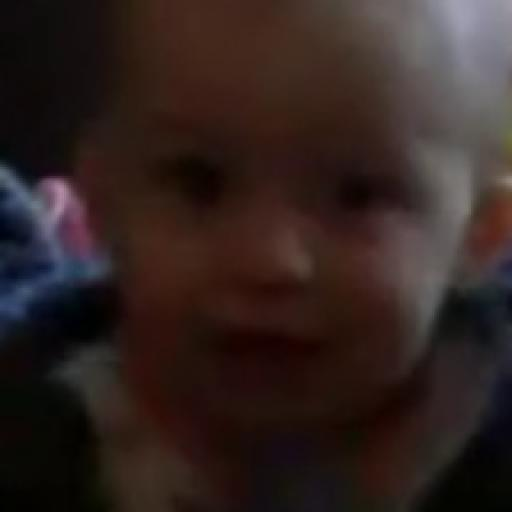Autism: (141, 7, 512, 423)
